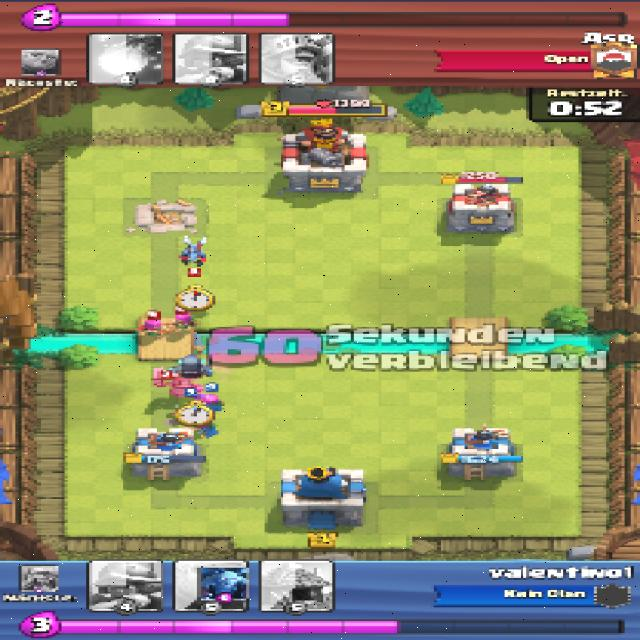Enemy-Archer: (134, 316, 168, 337), (170, 312, 193, 329)
Enemy-MiniPEKKA: (158, 380, 201, 397)
Enemy-Minion: (181, 246, 206, 266)
Player-Archer: (196, 394, 229, 411), (191, 419, 217, 435)
Player-MiniPEKKA: (175, 356, 212, 378)
